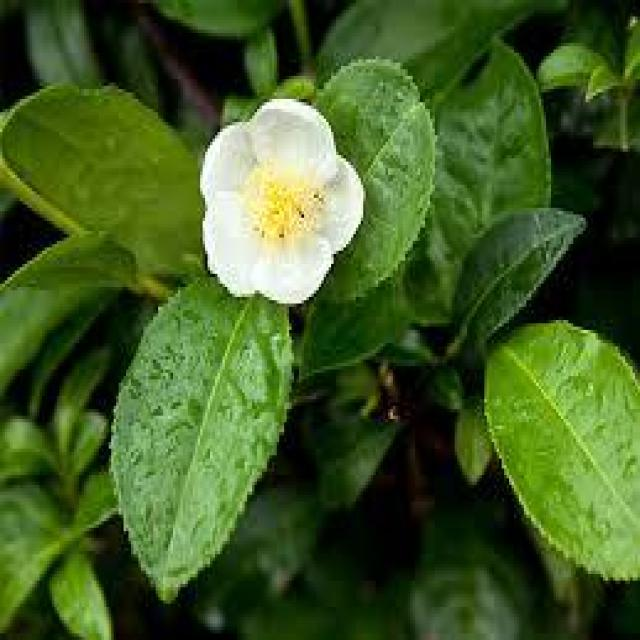organic waste: (204, 97, 364, 302)
